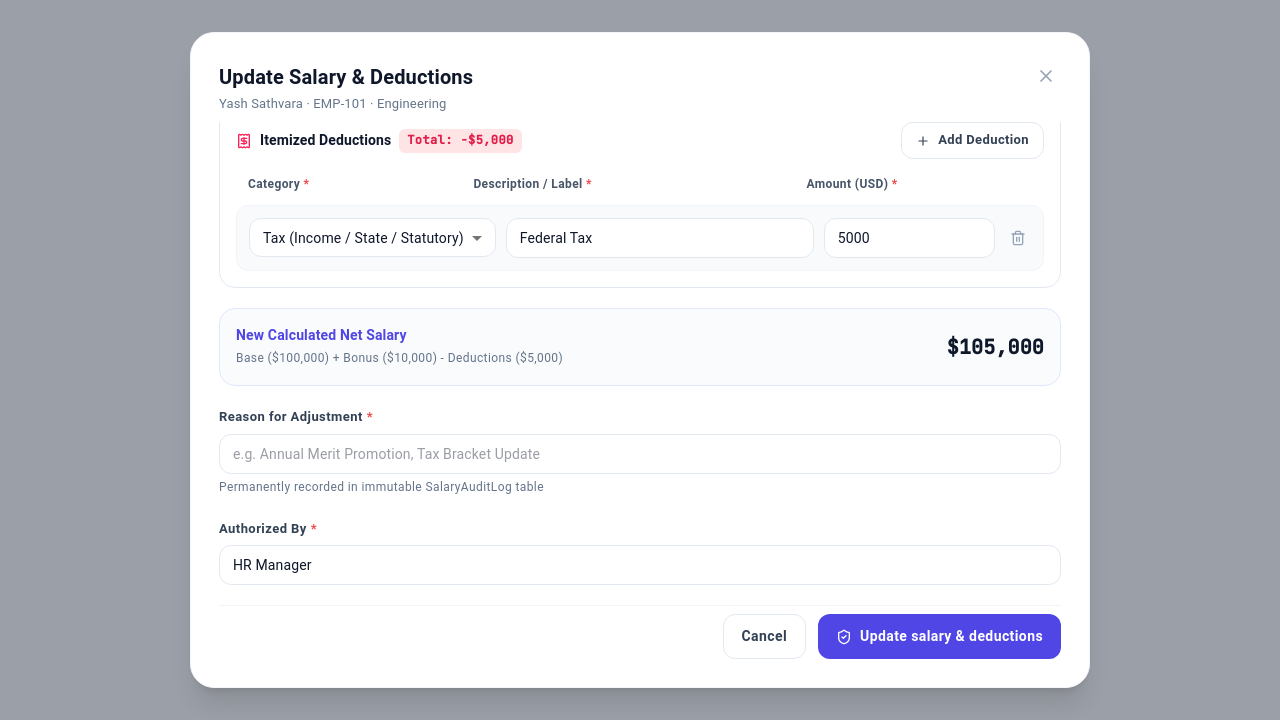
SalaryEditModal component › validates minimum 3-character audit change reason before submitting
The width and height of the screenshot is (1280, 720).
(page scrolled)
// Set a reason shorter than 3 characters
Type "ab" into the field with placeholder "e.g. Annual Merit Promotion, Tax Bracket Update". click: (640, 454)
box: [219,434,1061,474]
(page scrolled)
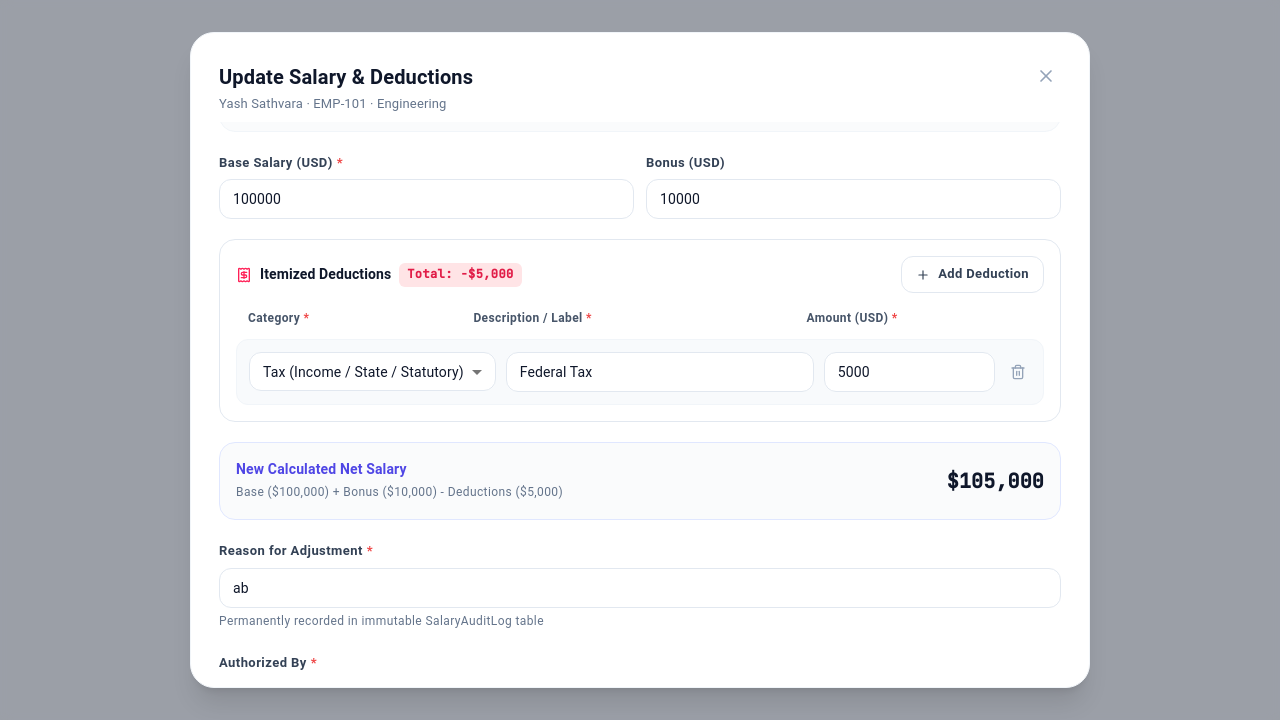
Submit the form
(page scrolled)
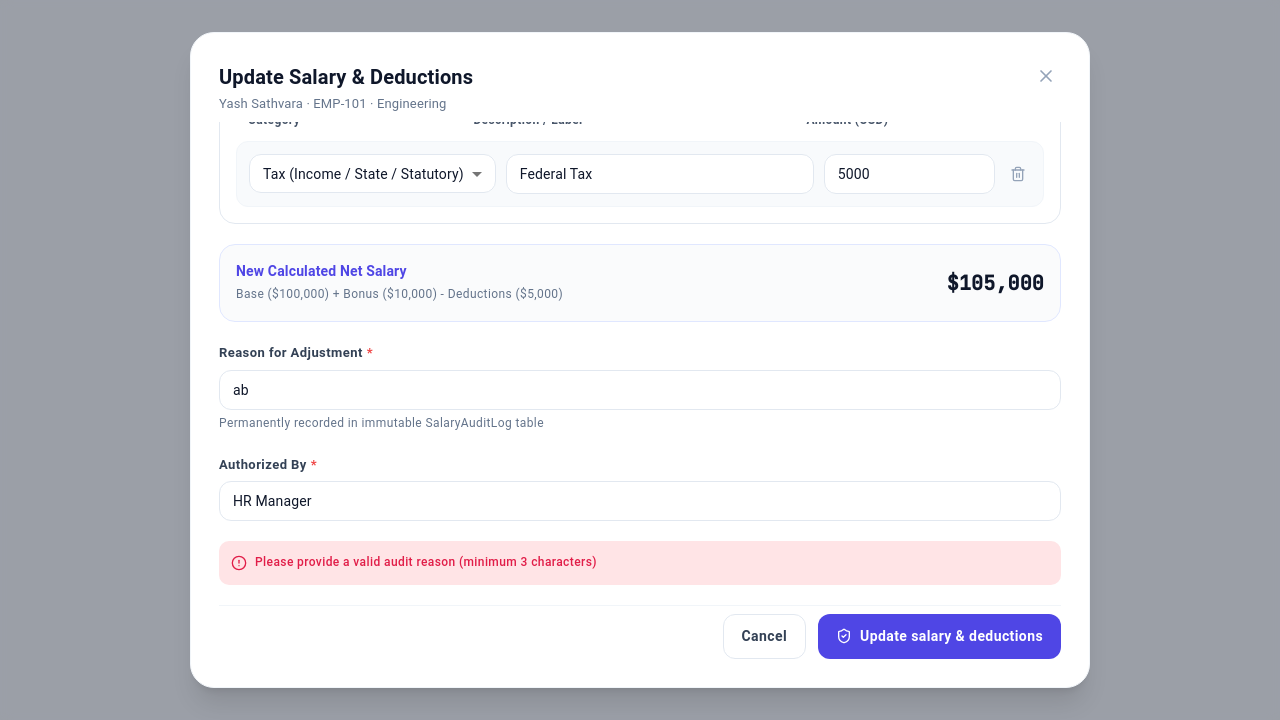
Check: the text "Please provide a valid audit reason (minimum 3 characters)" is shown, box [255,553,597,573]
